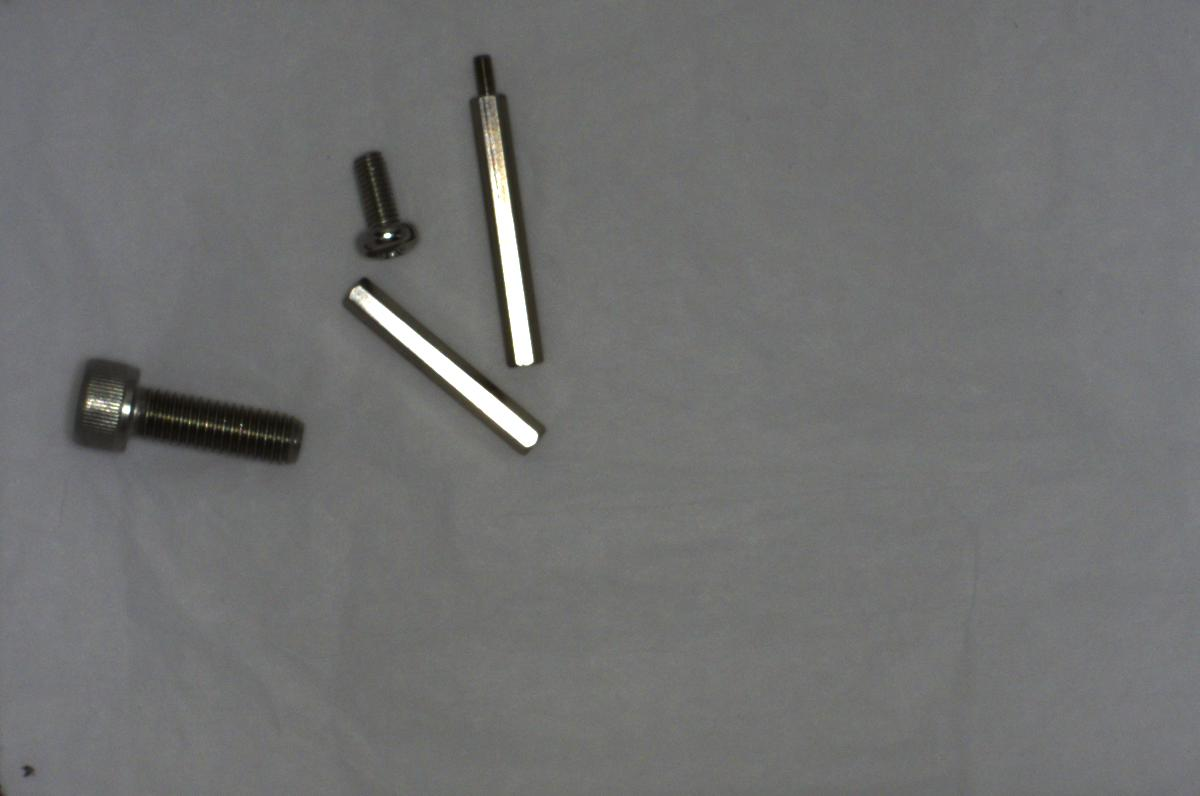Double hexagonal column: (340, 275, 550, 463)
Hexagon screw: (61, 350, 315, 473)
Hexagonal steel column: (466, 46, 542, 379)
Round head screw: (339, 143, 422, 262)
